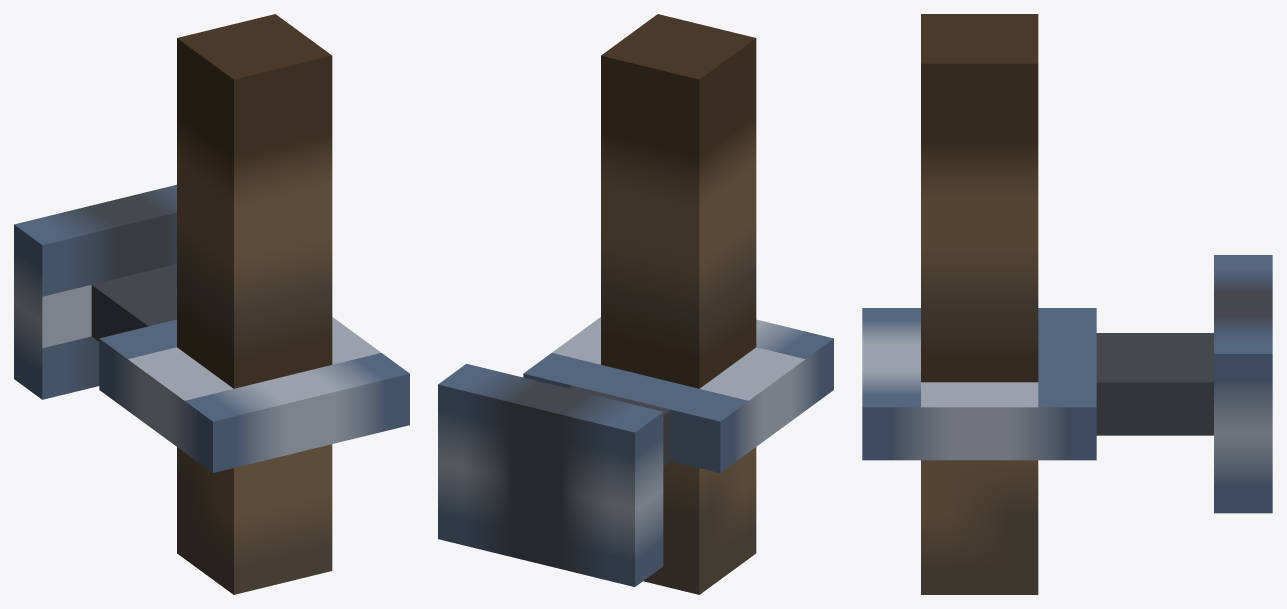
Rendered from torch1.fbx.
3 renders of one model, left to right at view 1: azimuth 30°, elevation 25°; view 2: azimuth 150°, elevation 25°; view 3: azimuth 270°, elevation 25°, orthographic. The views are drawn at different scales.
Parts seen in each view (by area): view 1: torch1; view 2: torch1; view 3: torch1.
Boxes of the visible parts, x1,y1,x2,y2 form: torch1: [14, 14, 409, 594]; torch1: [438, 14, 833, 594]; torch1: [862, 14, 1272, 594].
Size of the model in its own units: 4 by 10 by 7.
1 material, 1 textured.
